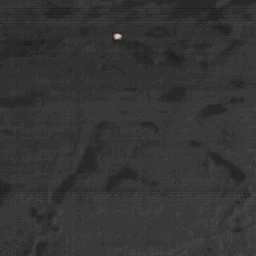Target: (113, 33, 122, 39)
